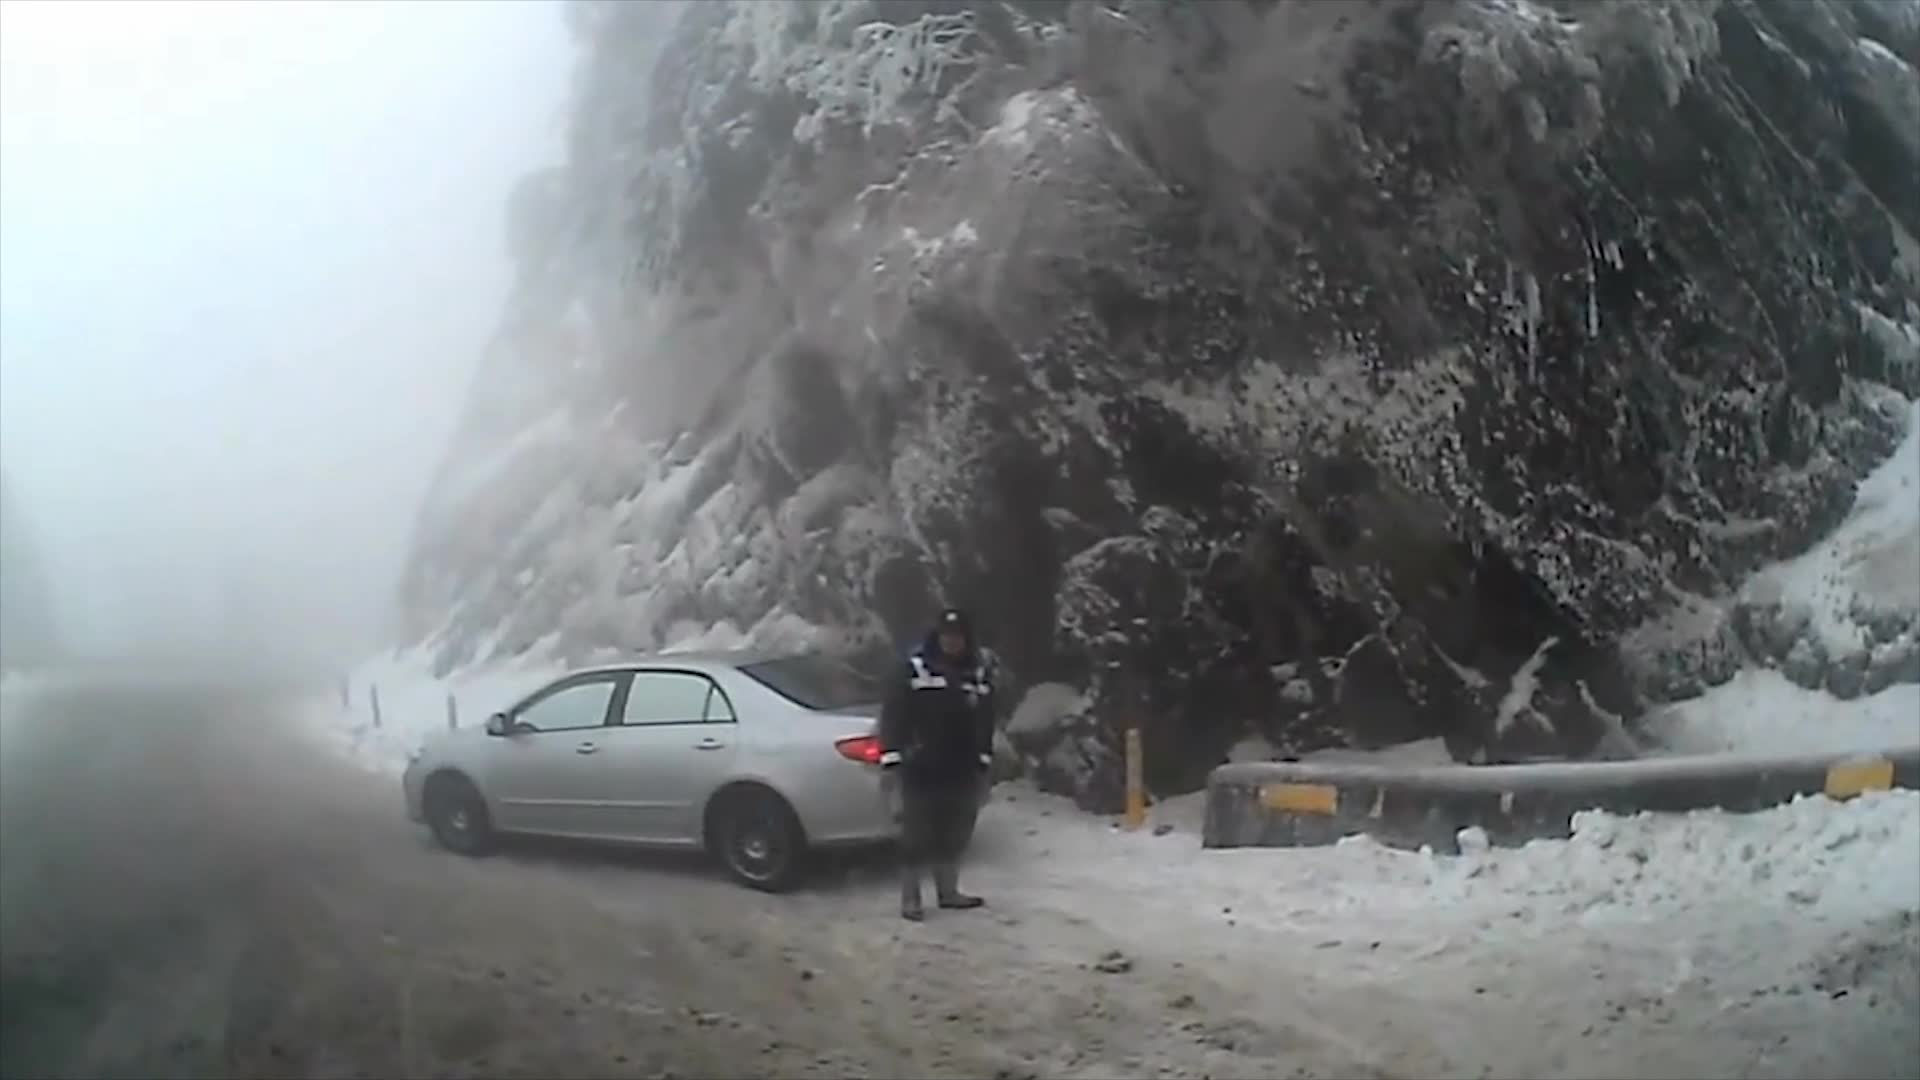pedestrian: (877, 601, 992, 916)
vehicle: (401, 649, 992, 892)
